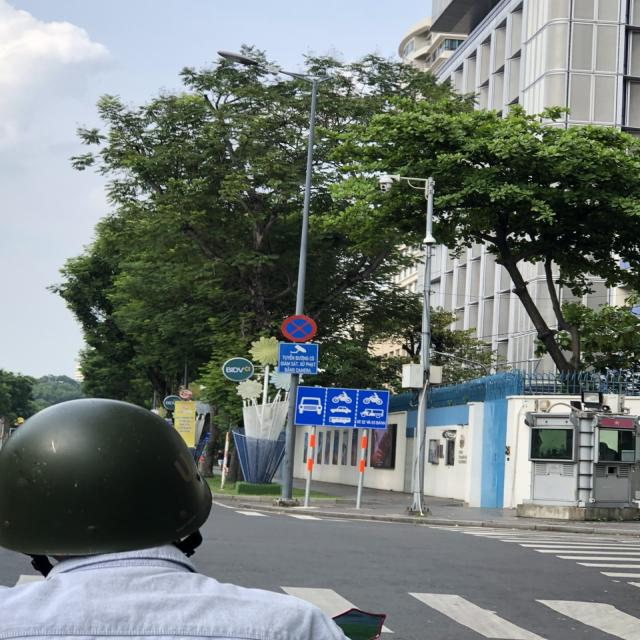Bien bao cam dung xe va do xe: (274, 308, 322, 342)
